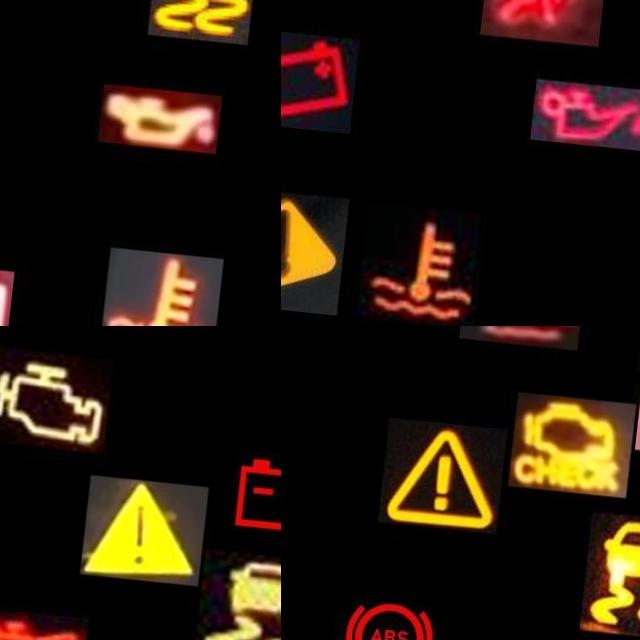Central Warning lamp: (387, 411, 514, 526), (91, 467, 218, 576), (281, 181, 360, 308)
Engine cooling system: (370, 194, 498, 319), (112, 239, 236, 326)
